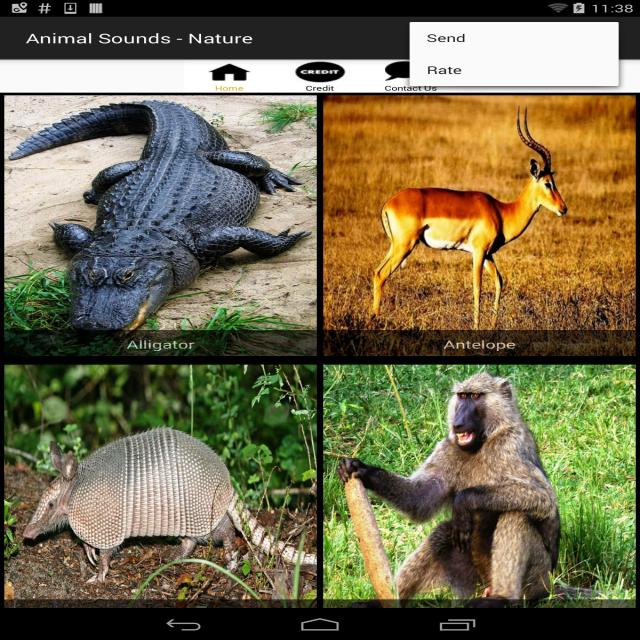button: (410, 51, 619, 85), (411, 22, 618, 50), (287, 60, 353, 93), (382, 59, 442, 93), (206, 59, 252, 93)
heading: (25, 32, 255, 46)
image: (320, 92, 639, 358), (3, 94, 317, 356), (2, 363, 317, 608), (322, 363, 636, 608)
text: (440, 338, 516, 352), (123, 337, 195, 351)
